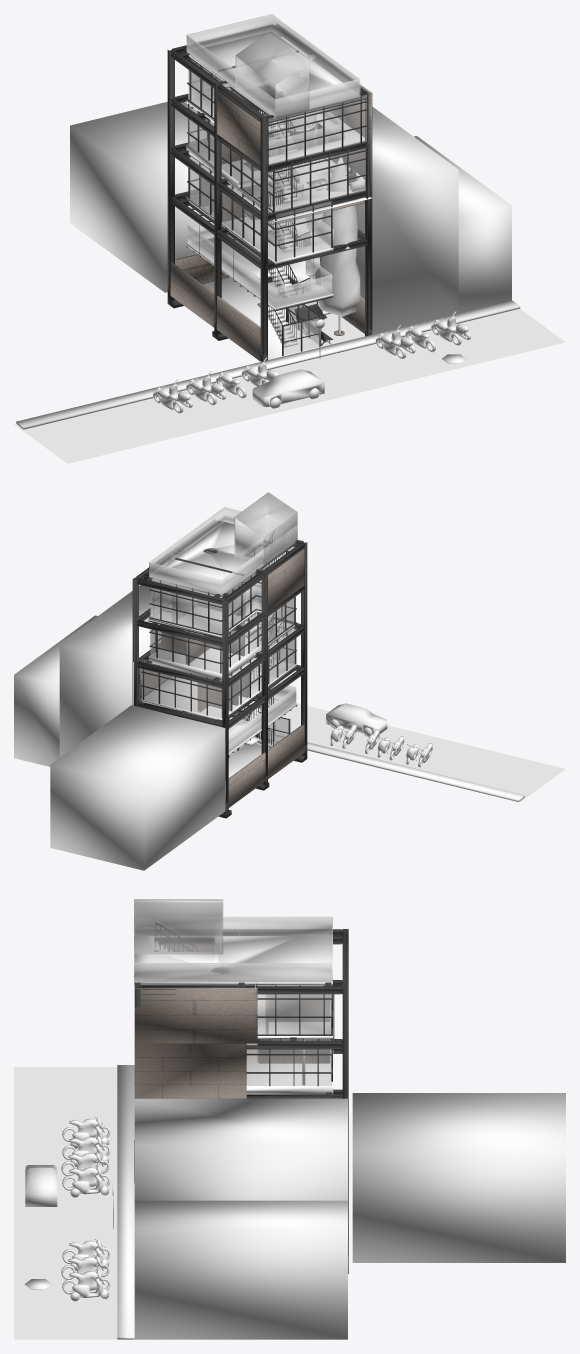
The picture shows the model from 3 angles, top to bottom: view 1: azimuth 30°, elevation 25°; view 2: azimuth 150°, elevation 25°; view 3: azimuth 270°, elevation 25°; orthographic projection. The views are drawn at different scales.
Visible parts, largest first — view 1: Object_1; view 2: Object_1; view 3: Object_1.
Part boxes in pixels (<box>): Object_1: <box>14,14,565,463</box>; Object_1: <box>14,492,565,870</box>; Object_1: <box>14,899,565,1339</box>.
Size of the model in its own units: 32.04 by 18.5 by 27.38.
9 materials, 2 textured.
